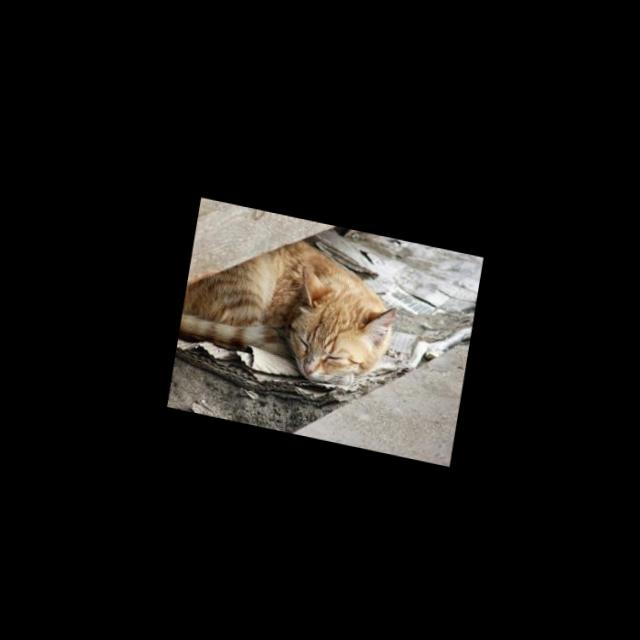animals: (192, 219, 425, 413)
